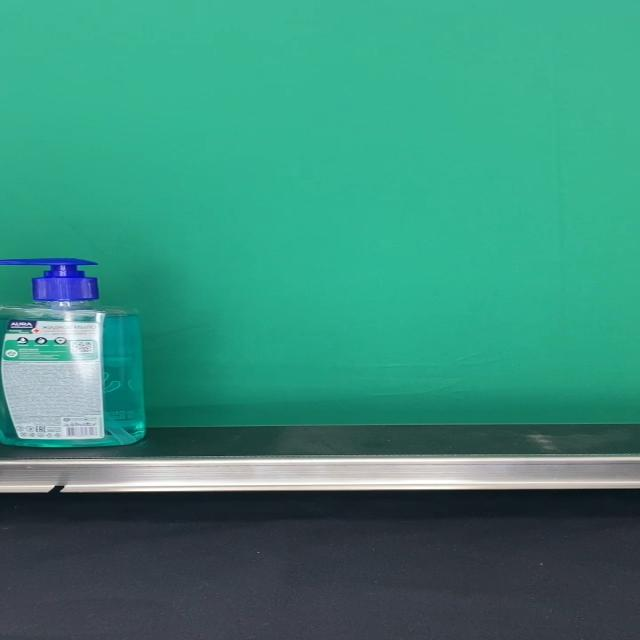Bottle: (0, 258, 146, 448)
Cap: (0, 258, 99, 301)
